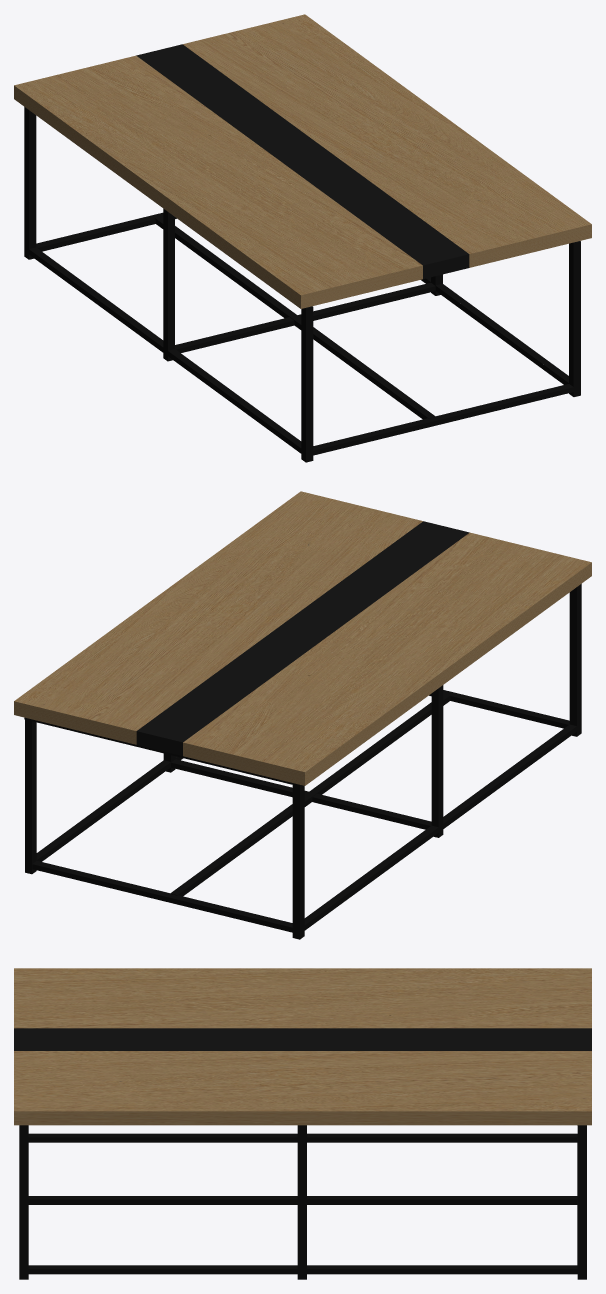
The model's file is Table6.glb.
3 views of the same model, one above another, from view 1: azimuth 30°, elevation 25°; view 2: azimuth 150°, elevation 25°; view 3: azimuth 270°, elevation 25° (orthographic).
Parts seen in each view (by area): view 1: SM_MERGED_StaticMeshActor_224; view 2: SM_MERGED_StaticMeshActor_224; view 3: SM_MERGED_StaticMeshActor_224.
Boxes of the visible parts, x1=… form: SM_MERGED_StaticMeshActor_224: x1=14, y1=14, x2=591, y2=462; SM_MERGED_StaticMeshActor_224: x1=14, y1=491, x2=591, y2=939; SM_MERGED_StaticMeshActor_224: x1=14, y1=968, x2=591, y2=1279.
Size of the model in its own units: 3.23 by 1.81 by 5.51.
Materials: 3 (1 with a texture image).
